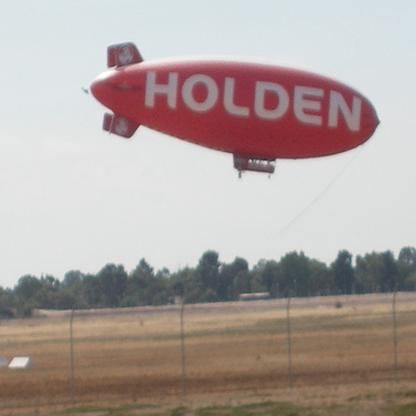Airship: (82, 43, 383, 179)
